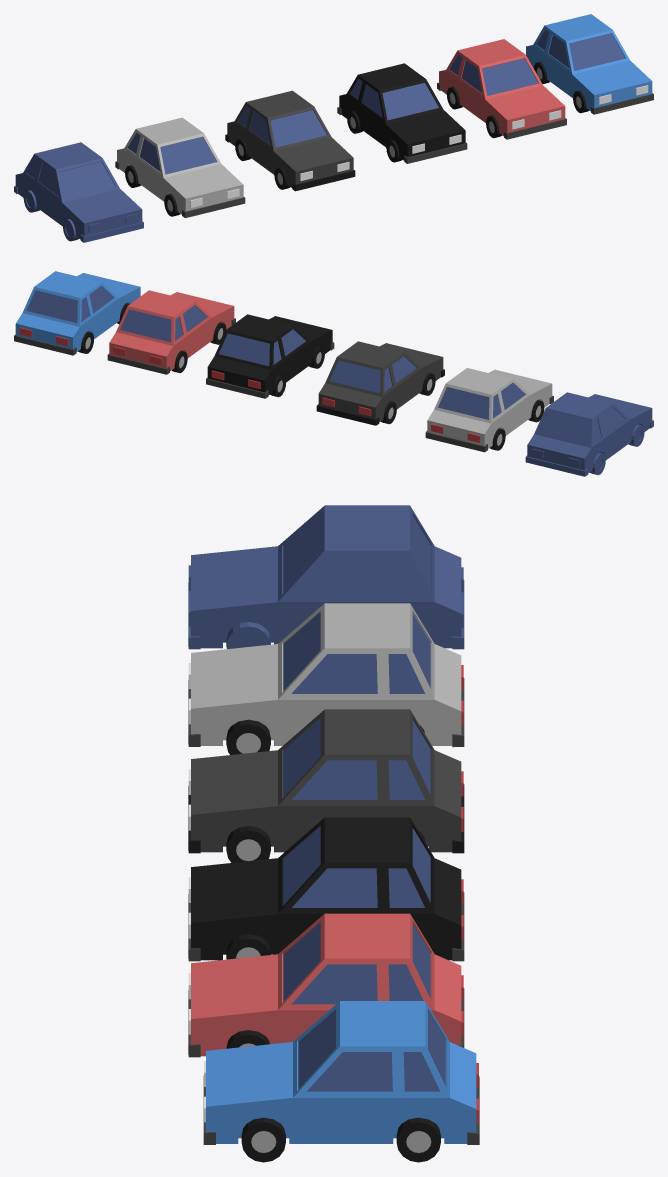
The model's file is cars.fbx.
3 views of the same model, one above another, from view 1: azimuth 30°, elevation 25°; view 2: azimuth 150°, elevation 25°; view 3: azimuth 270°, elevation 25° (orthographic). The views are drawn at different scales.
Parts seen in each view (by area): view 1: auto A.003, auto A.004, auto A.001, auto A.002, auto A, auto B; view 2: auto A.002, auto A.001, auto A.004, auto A.003, auto A, auto B; view 3: auto B, auto A.002, auto A.003, auto A.004, auto A.001, auto A.
Boxes of the visible parts, box(x1,y1,x2,y2) form: auto A.003: box(115, 117, 245, 217); auto A.004: box(14, 142, 143, 242); auto A.001: box(337, 63, 467, 163); auto A.002: box(225, 90, 355, 191); auto A: box(437, 39, 566, 139); auto B: box(526, 14, 653, 114); auto A.002: box(316, 341, 444, 425); auto A.001: box(206, 314, 334, 398); auto A.004: box(525, 392, 653, 476); auto A.003: box(425, 368, 553, 452); auto A: box(107, 290, 235, 374); auto B: box(14, 271, 140, 355); auto B: box(203, 1001, 479, 1162); auto A.002: box(188, 709, 464, 862); auto A.003: box(188, 603, 464, 754); auto A.004: box(188, 505, 464, 649); auto A.001: box(188, 817, 464, 961); auto A: box(188, 913, 464, 1057).
Size of the model in its own units: 2157 by 199 by 479.
5 materials, 5 textured.
